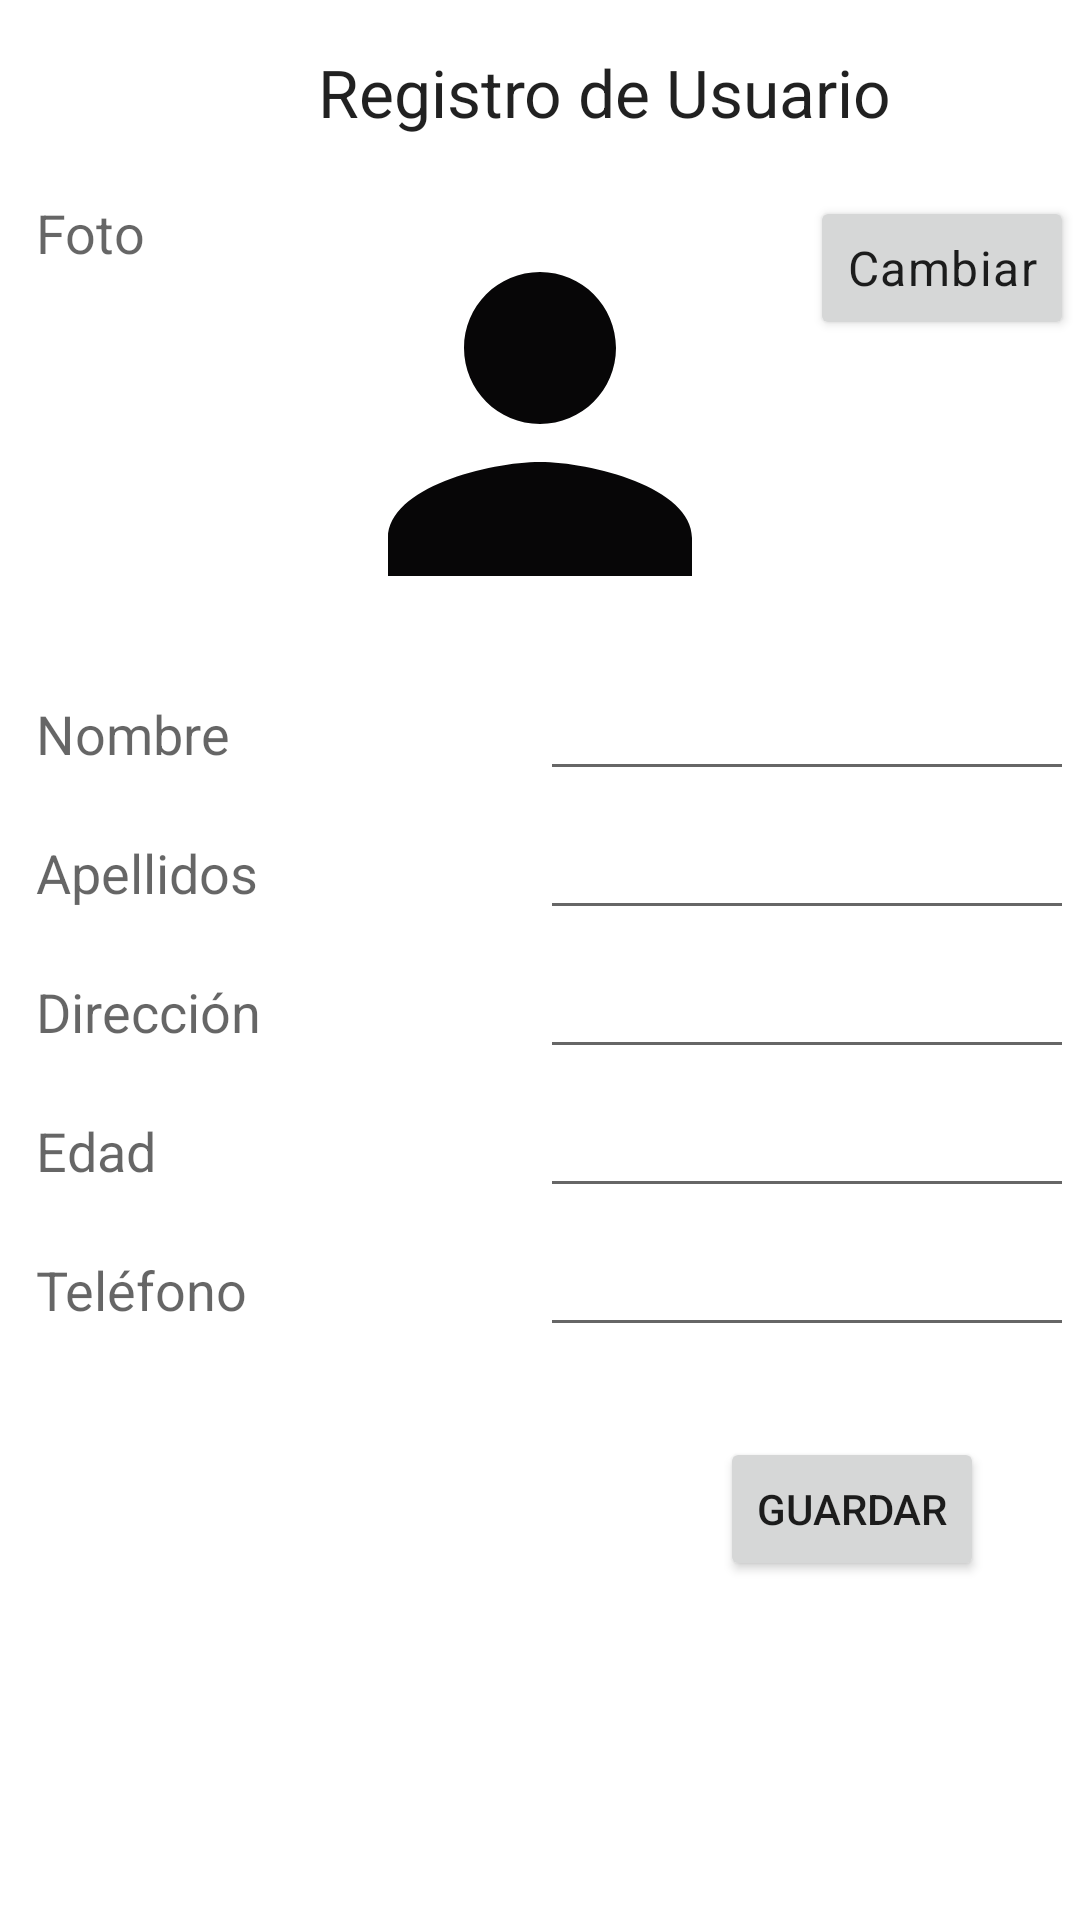

Named icons in this screenshot (1080 × 1920) and their bounding boxes, (x1, y1, x2, y2):
perfil: (388, 272, 692, 576)
